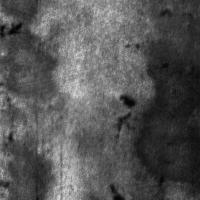patches: (12, 46, 126, 160), (68, 92, 178, 200), (138, 1, 200, 181), (1, 1, 61, 106), (140, 0, 200, 73), (1, 130, 52, 199), (112, 91, 136, 124), (1, 19, 25, 39)
